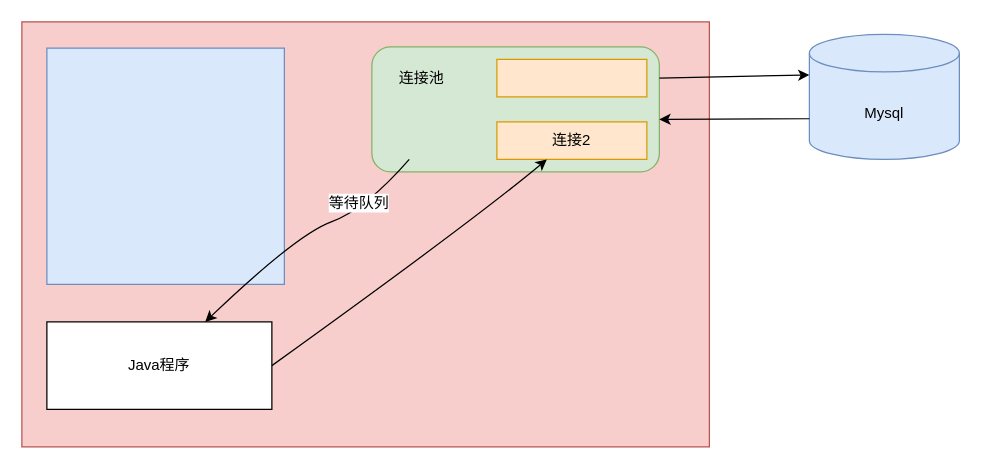
This 981x469 diagram has some shape labels left out. Here are the shapes that lost their labels. From the top down, the centre of each, then its label:
pixel 571 77: 连接1
pixel 165 165: Java程序 1.从连接池取出连接 2.使用连接，操作MySQL。 3.连接放回连接池（连接可以重复利用）
